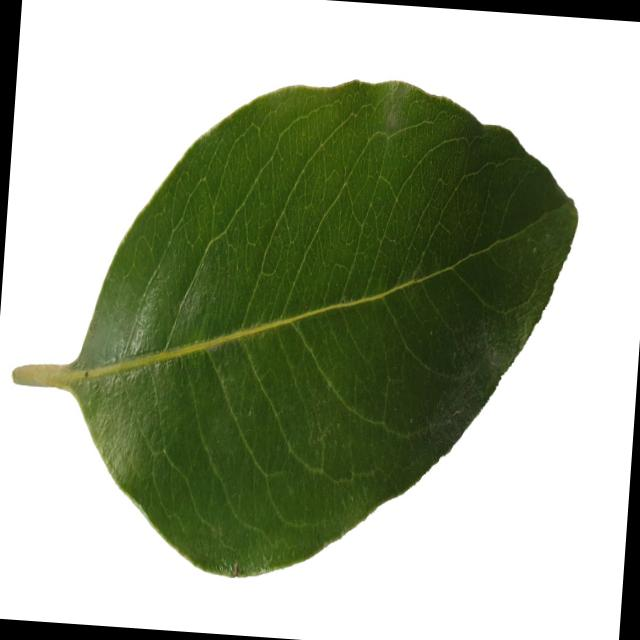Medicinal-Sandalwood: (0, 53, 586, 599)
